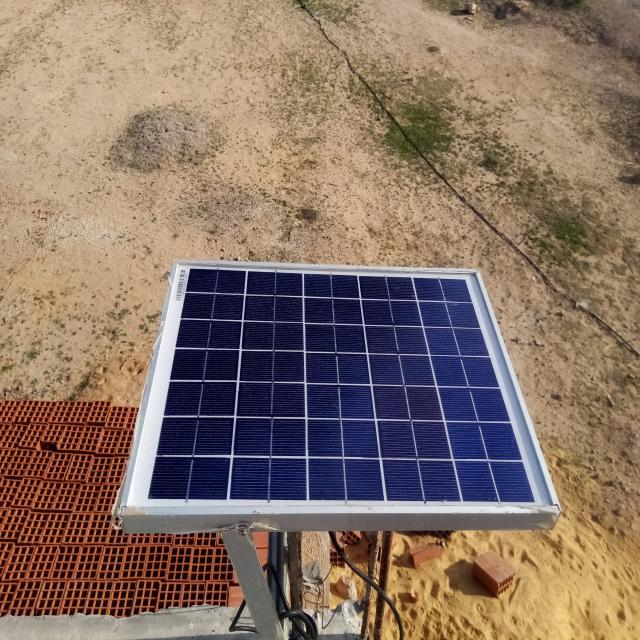no faulty: (122, 261, 558, 516)
